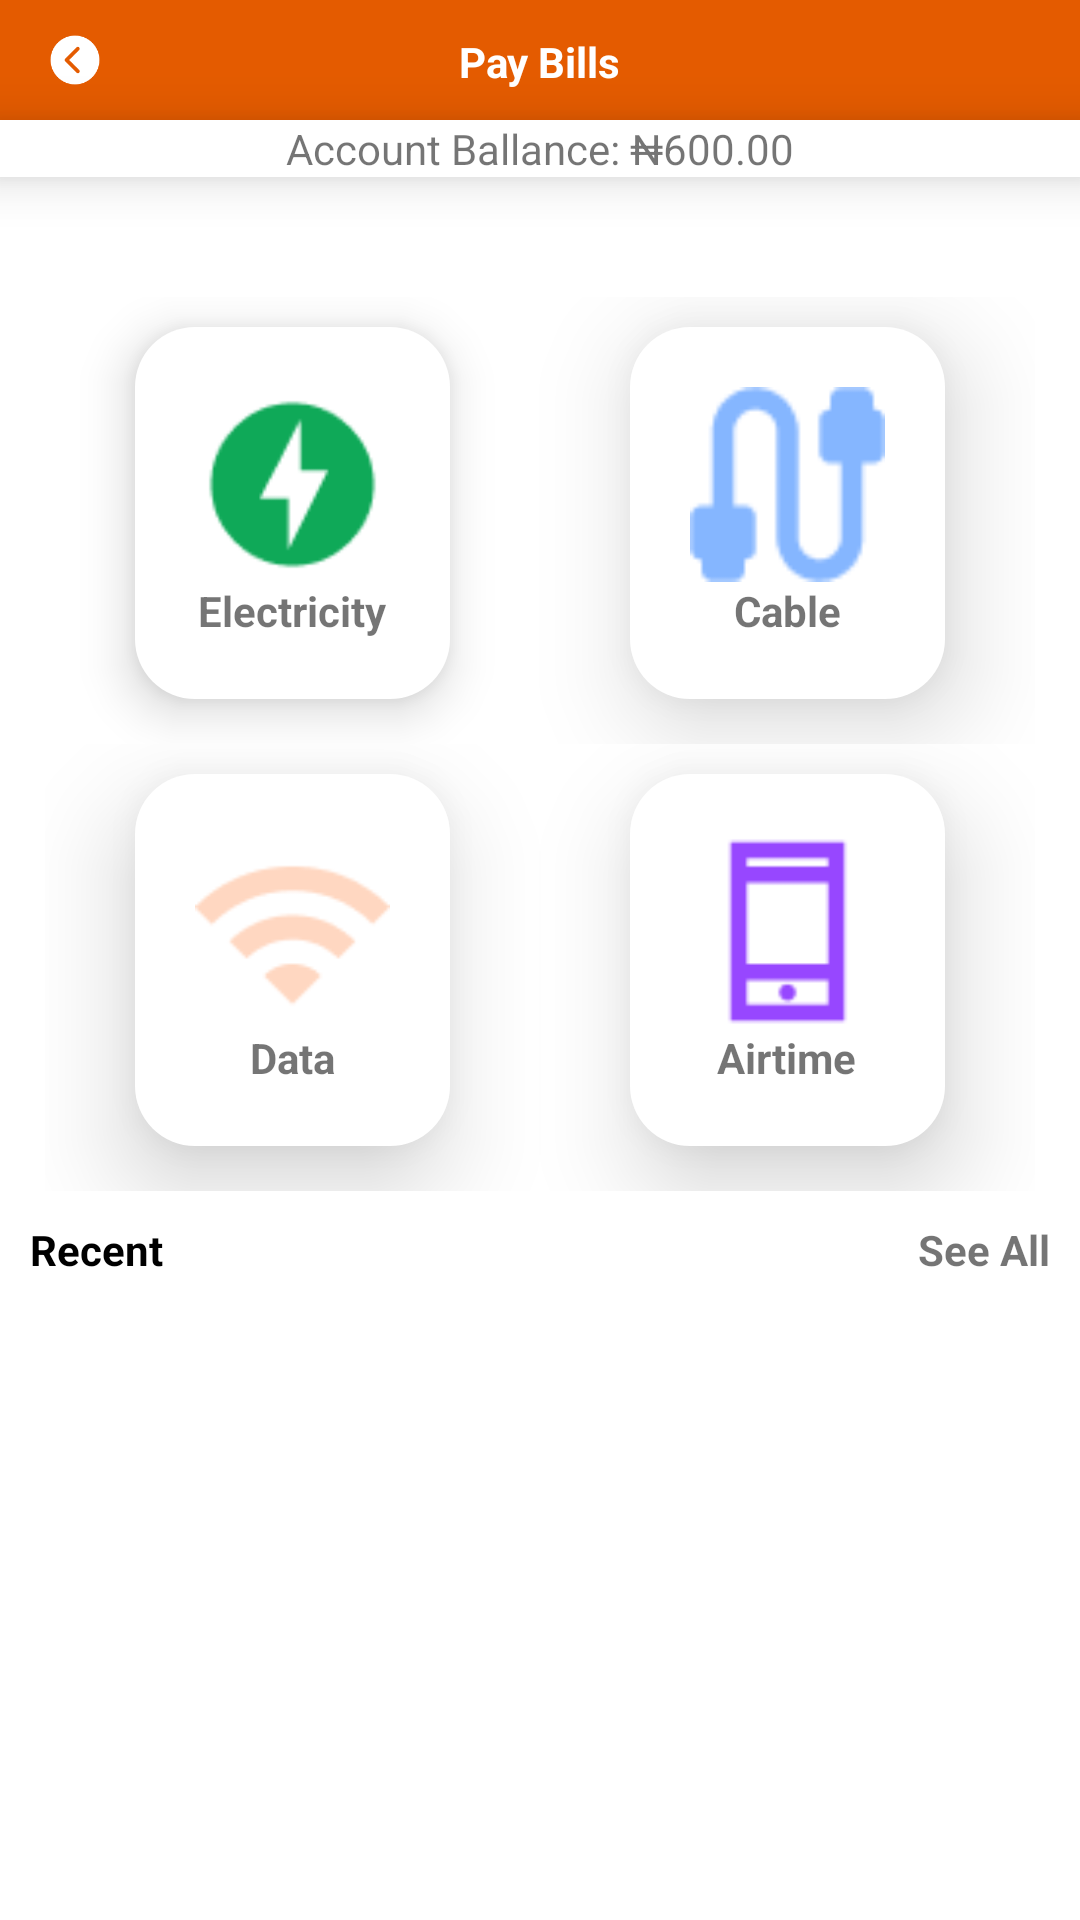

Icons on this 1080*1920 Android screen, each with the point to tap as point (x, y):
back circle: point (75, 60)
phone: point (787, 931)
power: point (292, 484)
wifi: point (292, 934)
